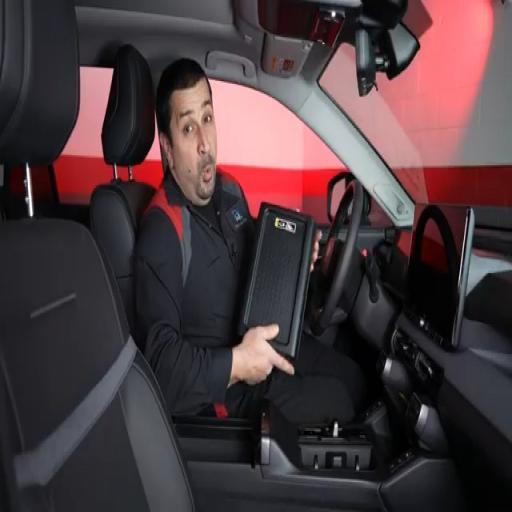emblem: (275, 218, 295, 233), (232, 210, 243, 223)
side_mirror: (380, 23, 419, 79), (327, 171, 355, 223)
window: (211, 80, 345, 226)
windshield: (320, 0, 511, 206)
